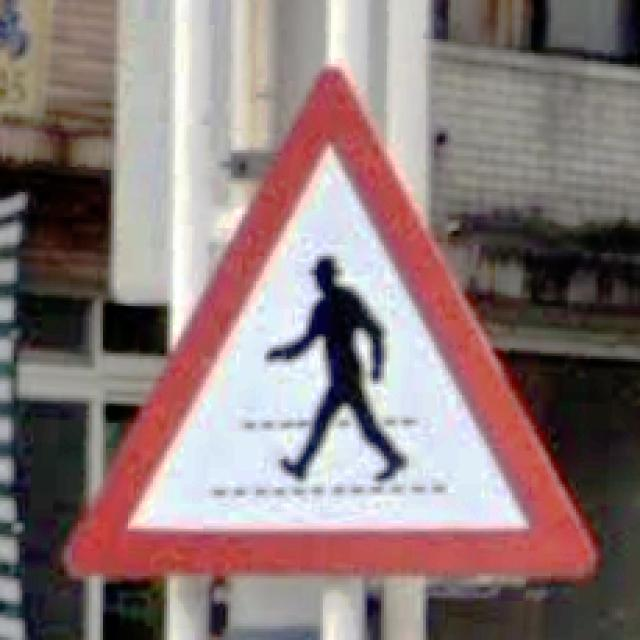pedestriancross: (67, 66, 595, 576)
